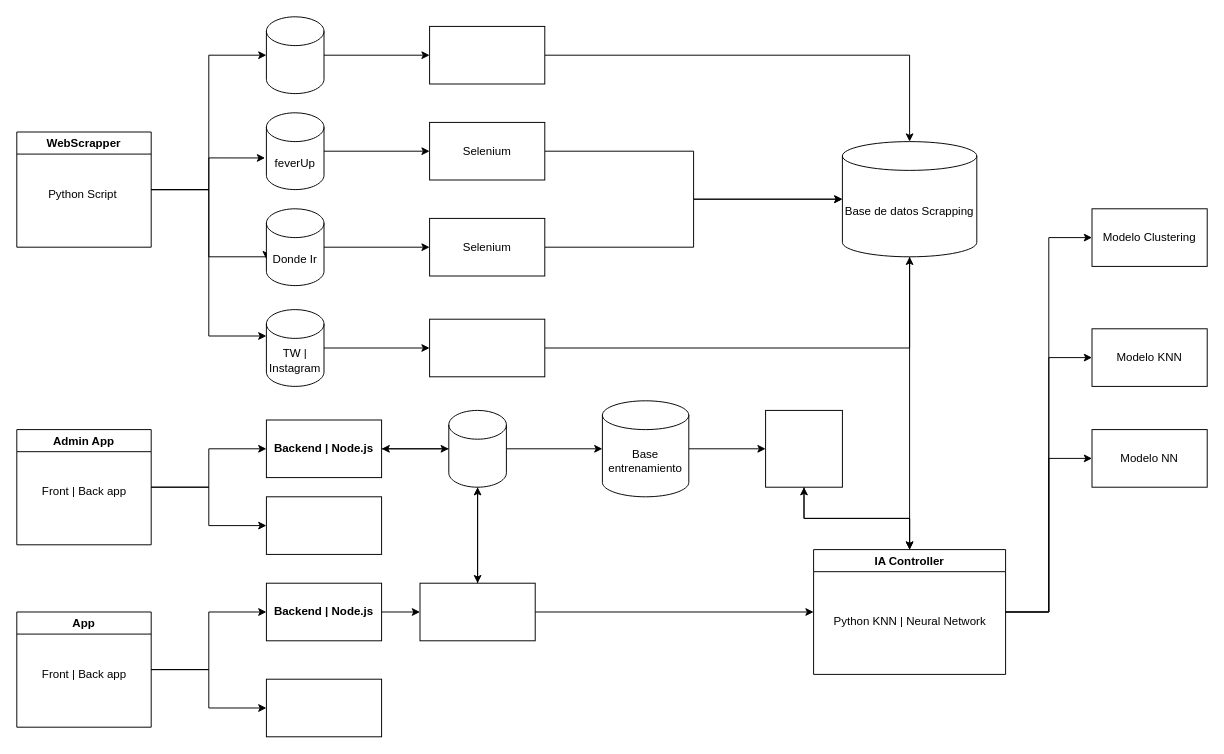
This 1224x754 diagram has some shape labels left out. The shapes that lost their labels are listed below. From the top down, each one's centre as x and y in pixels, then its label:
At (294,55): "Chilango".
At (487,54): "Beautiful Soup | CloudFare".
At (487,347): "DeepSpeech | Selenium".
At (477,448): "Base de datos API".
At (803,448): "Cargar entrenamiento".
At (323,525): "Frontend | React.js".
At (477,611): "App | Node.js".
At (323,707): "App | React Native.js".
